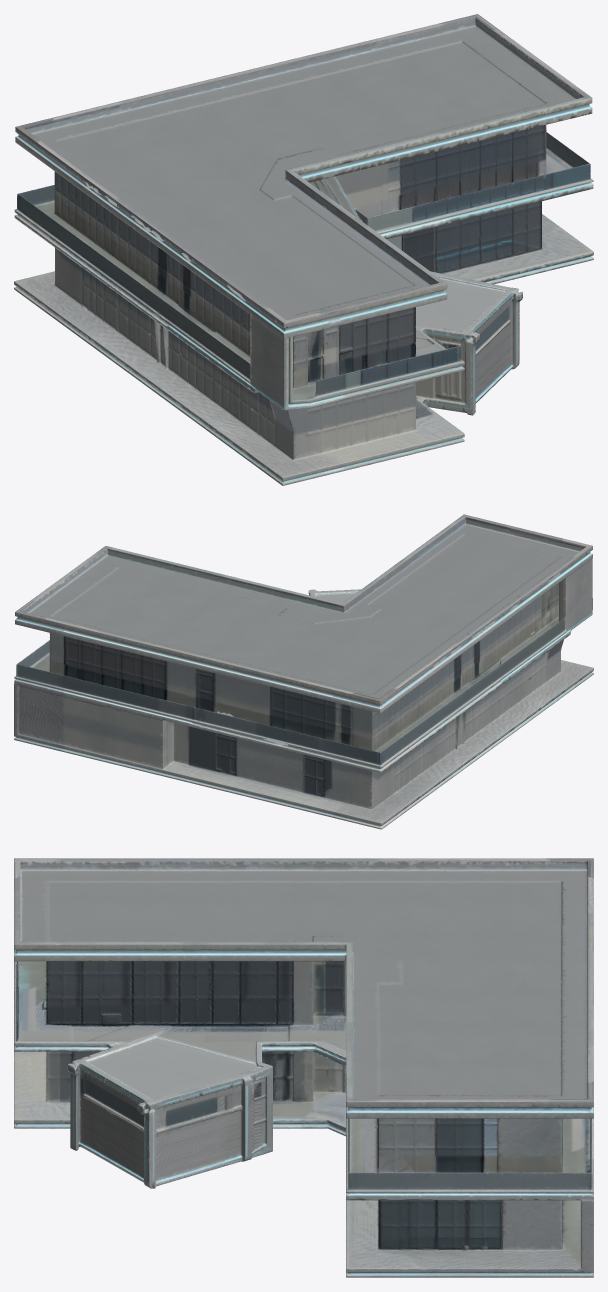
The model's file is Meshy_AI_Angular_Glass_House_0220162739_texture.fbx.
The picture shows the model from 3 angles, top to bottom: view 1: azimuth 30°, elevation 25°; view 2: azimuth 150°, elevation 25°; view 3: azimuth 270°, elevation 25°; orthographic projection. The views are drawn at different scales.
Parts seen in each view (by area): view 1: Mesh_0; view 2: Mesh_0; view 3: Mesh_0.
Boxes of the visible parts, <box> form: Mesh_0: <box>14,14,593,485</box>; Mesh_0: <box>14,514,593,829</box>; Mesh_0: <box>14,858,593,1277</box>.
Size of the model in its own units: 190 by 63.93 by 190.
Materials: 1 (1 with a texture image).
